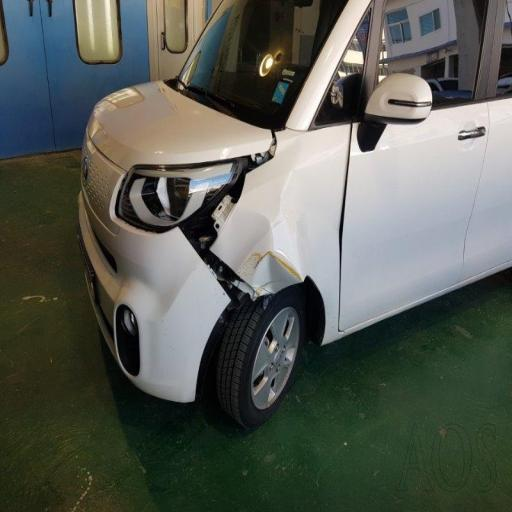broken: (162, 83, 340, 315)
